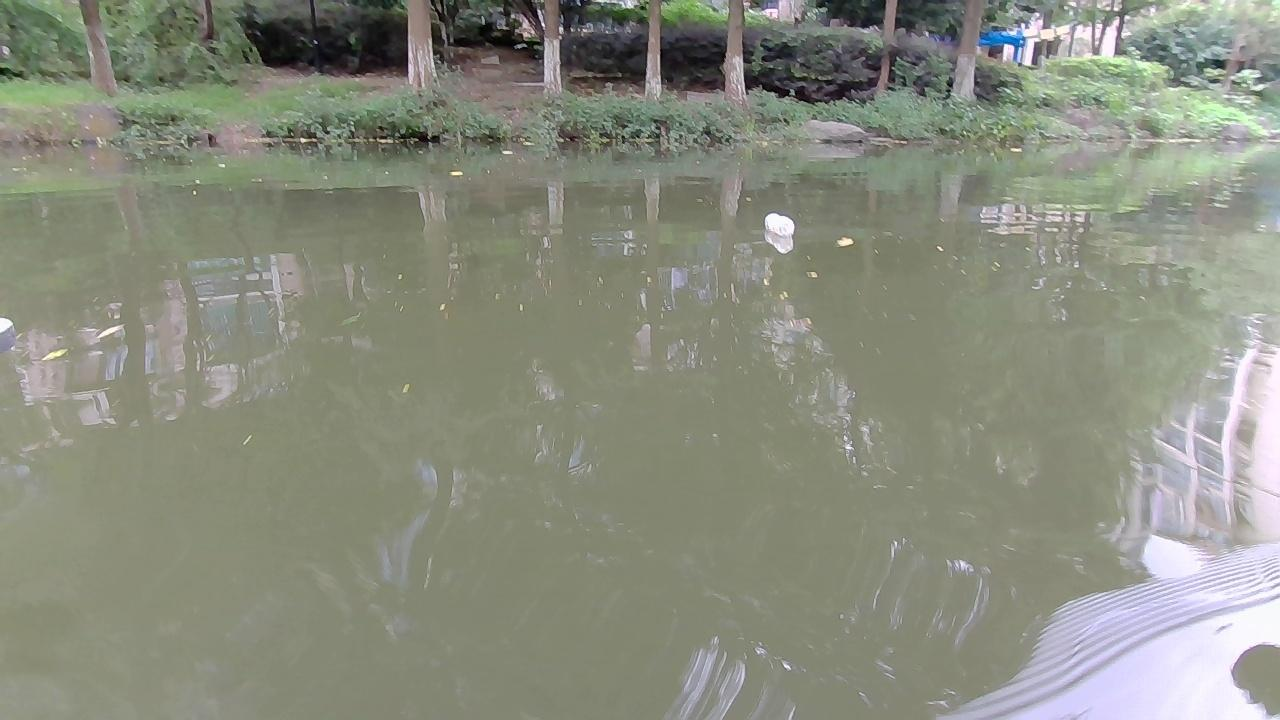bottle: (758, 211, 792, 231)
